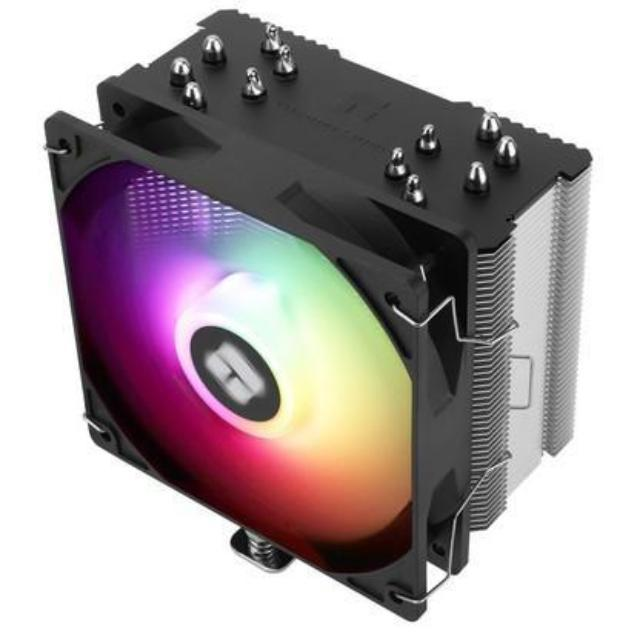CPU_Fan: (41, 8, 596, 623)
